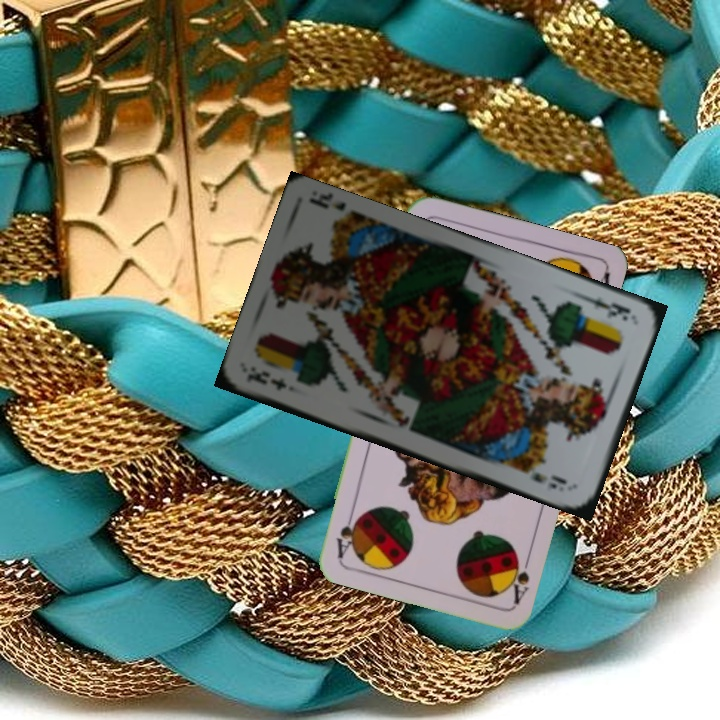EK: (579, 291, 633, 324), (242, 367, 290, 393)
SA: (501, 545, 534, 607)
